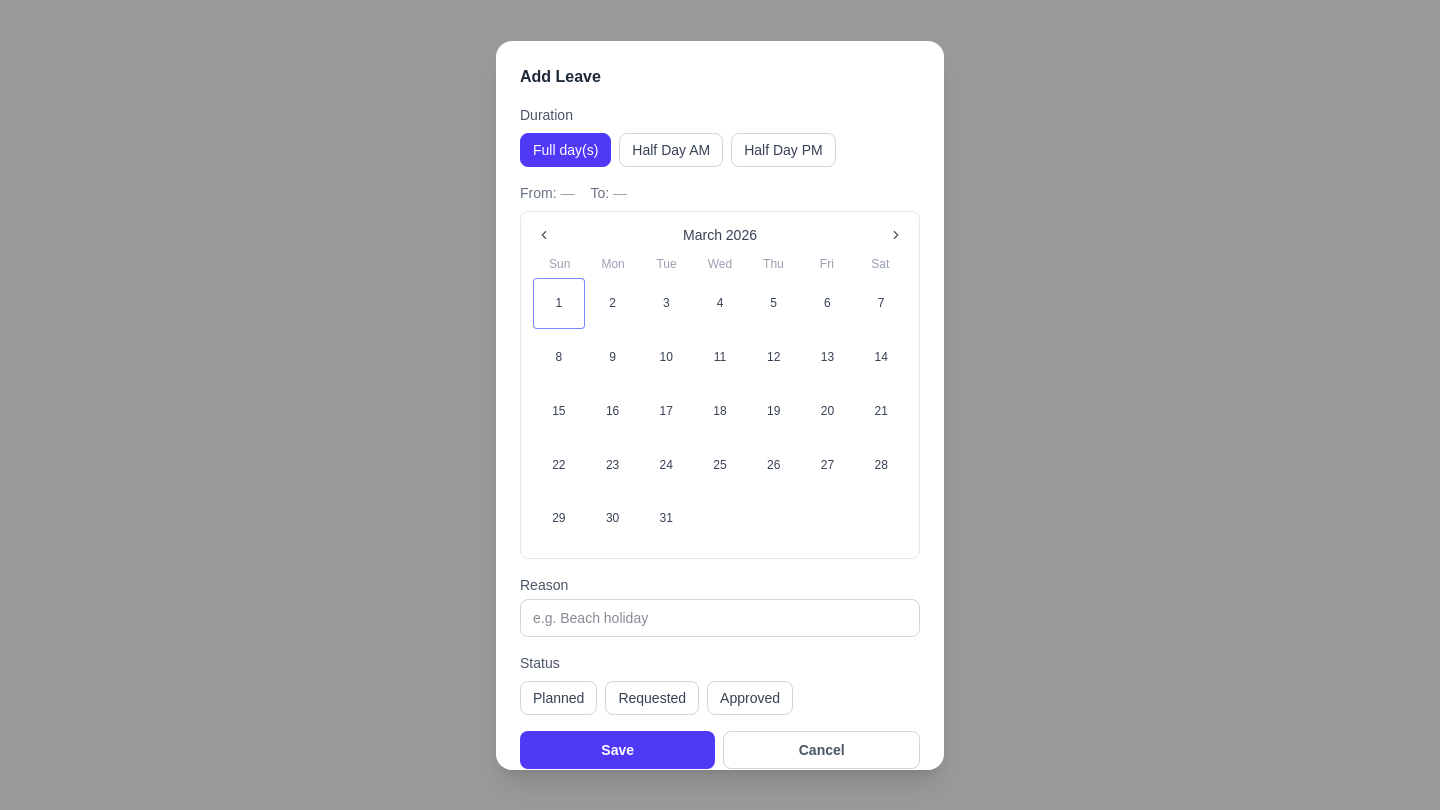
it: AddLeaveModal — validation on save › shows date error when Save is clicked with no dates selected
Click the button "Save": coordinates (618, 750) [520,731,715,769]
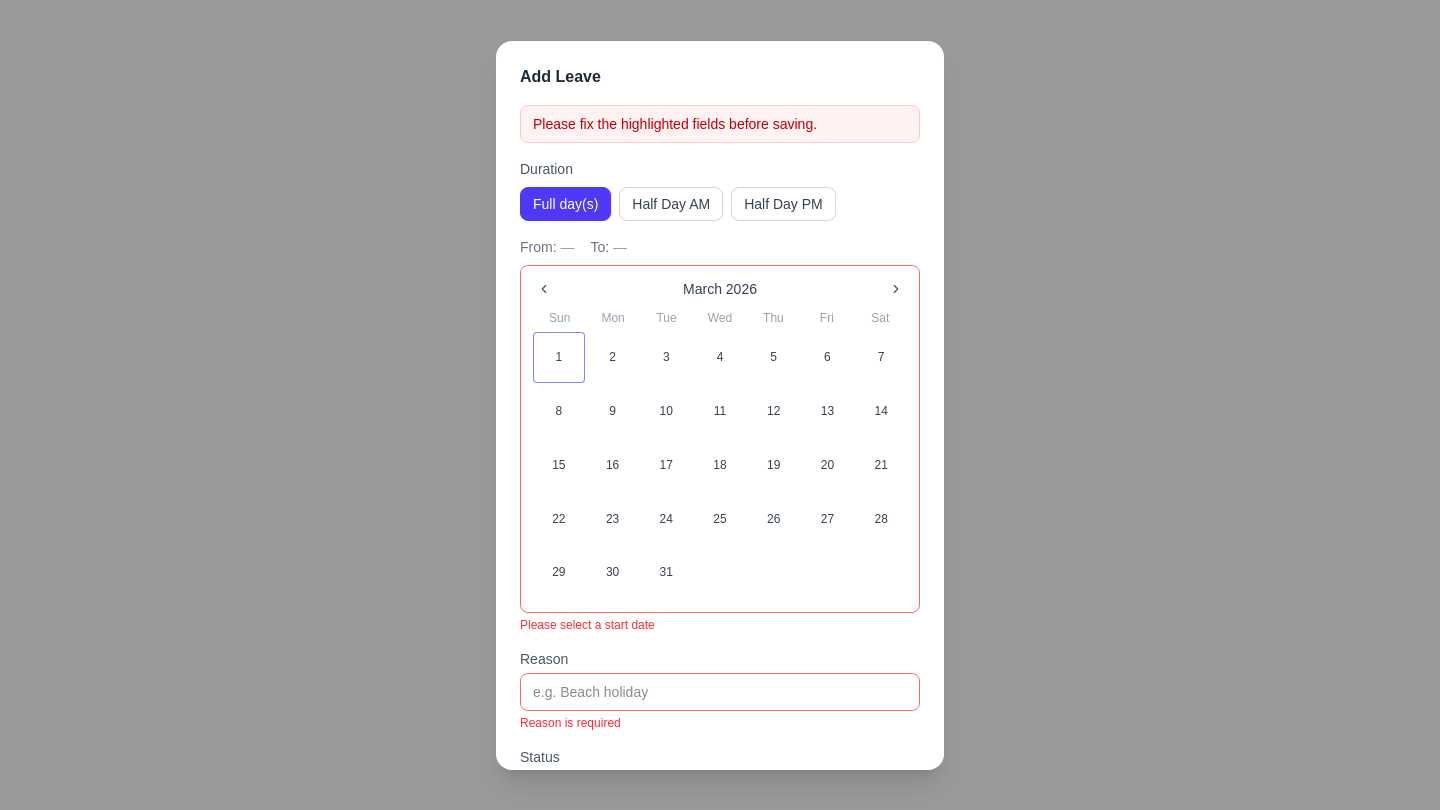
Expected: the text "Please select a start date" is shown, [520,618,655,632]
